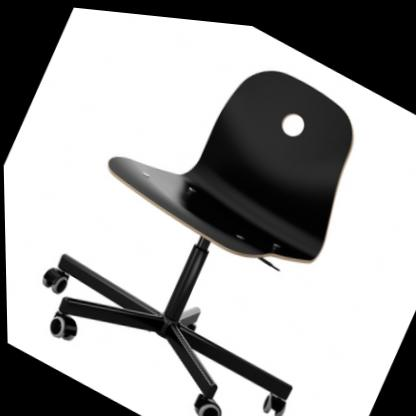Chair: (12, 1, 411, 416)
